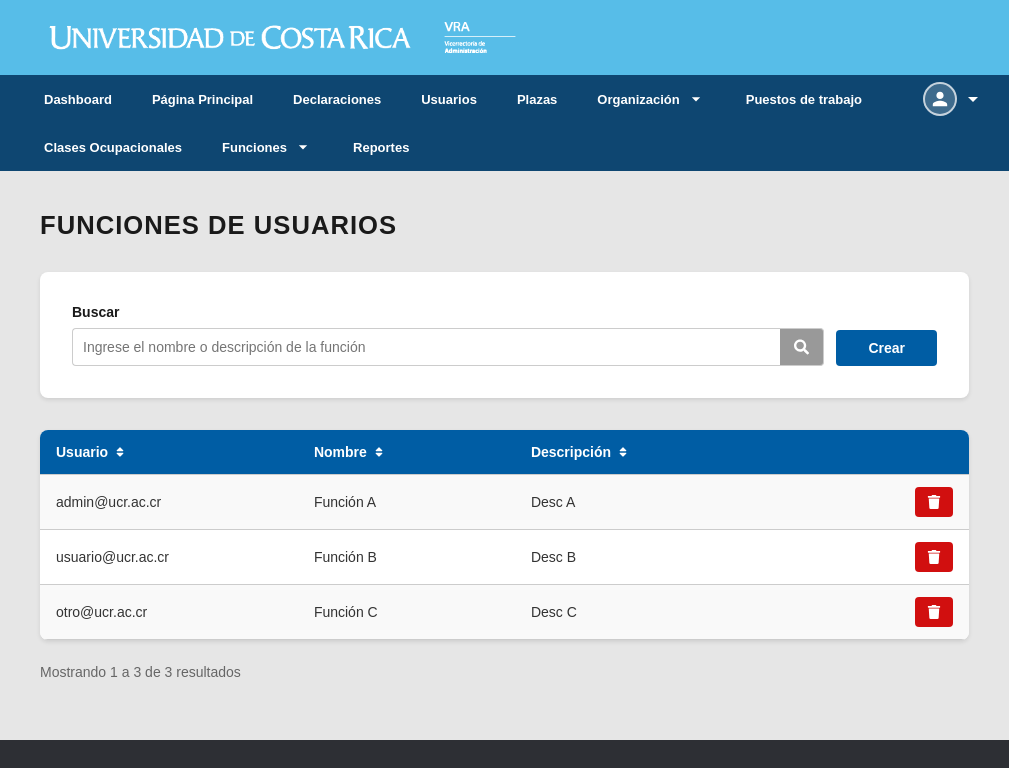
Test: QueryUserFunctions Page — administrador › abre modal de crear al hacer clic en Crear
Expected: the text "Función A" is shown, [298,474,515,530]
Click the button "Crear" at (887, 348), box [836,330,937,366]
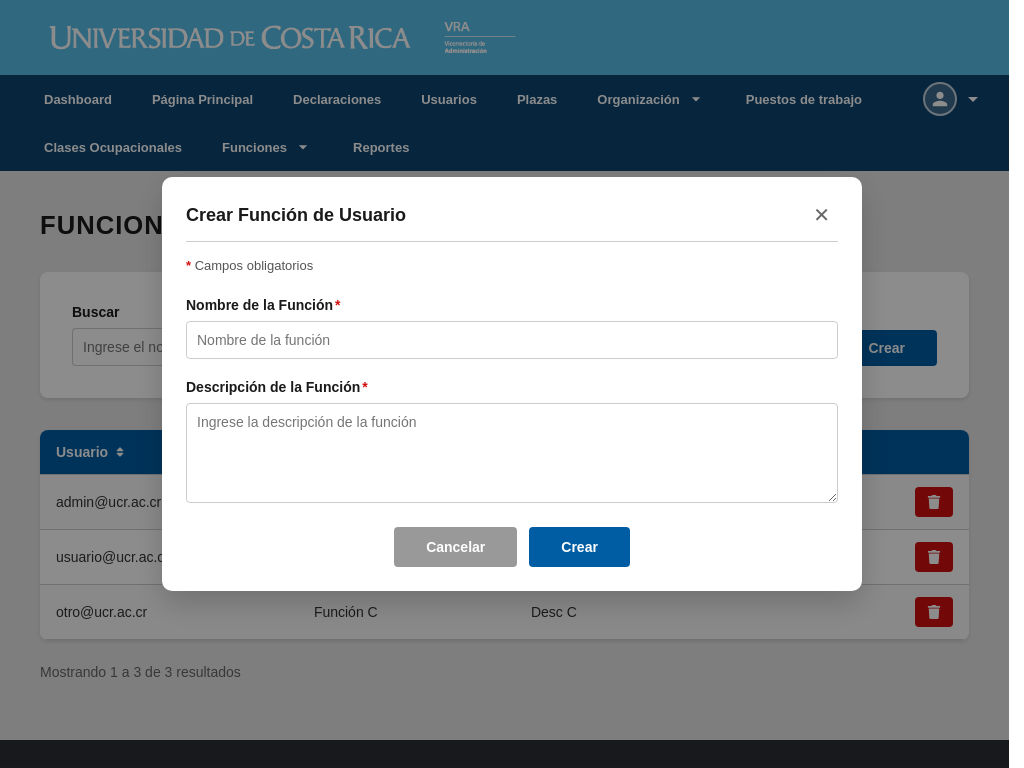
Expected: the dialog is shown
